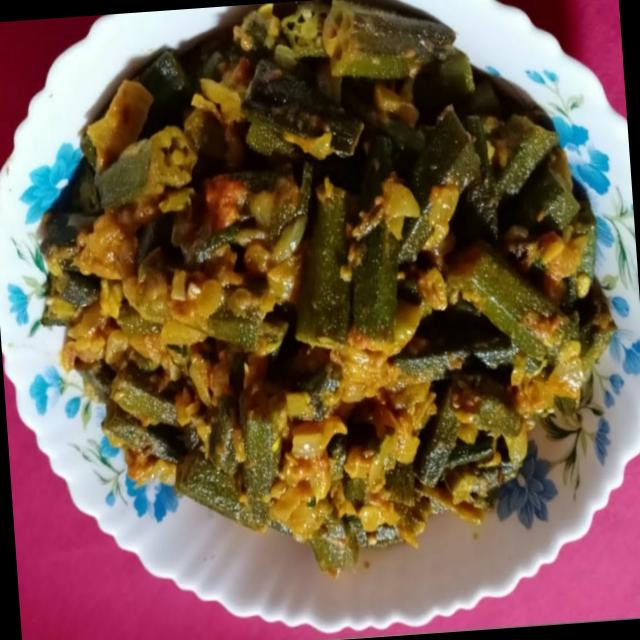BhindiMasala: (20, 0, 631, 595)
